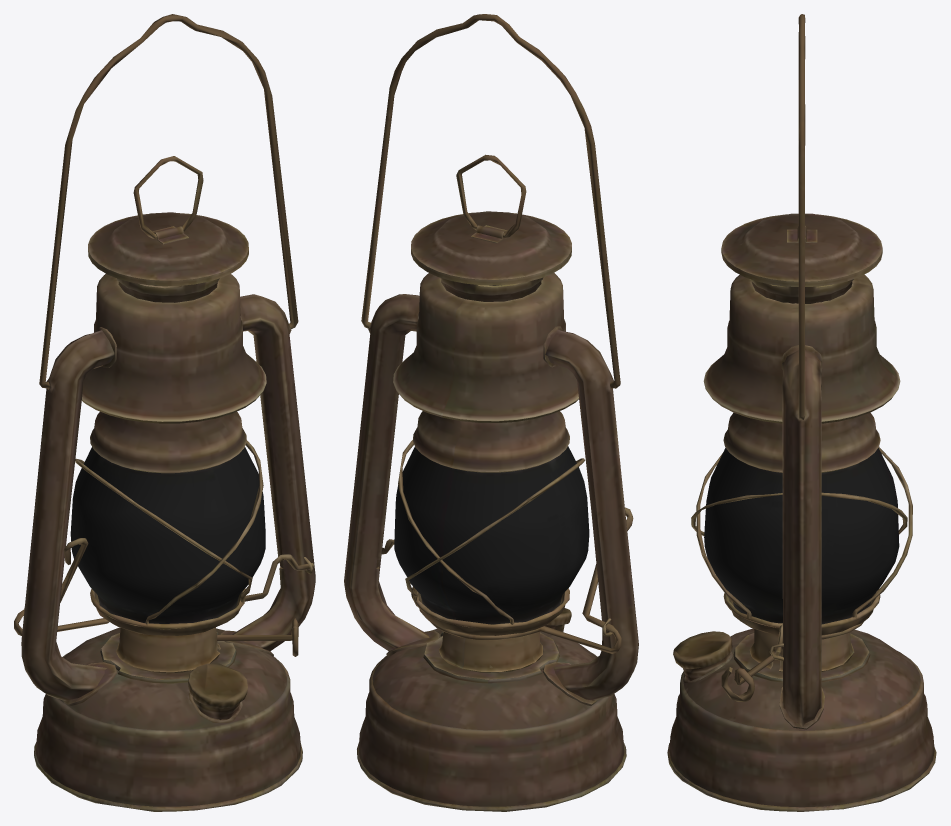
The model's file is Lantern_01.2a74f68c.glb.
3 views of the same model, side by side, from view 1: azimuth 30°, elevation 25°; view 2: azimuth 150°, elevation 25°; view 3: azimuth 270°, elevation 25° (orthographic).
Parts seen in each view (by area): view 1: Lantern_01, Lantern_01_glass; view 2: Lantern_01, Lantern_01_glass; view 3: Lantern_01, Lantern_01_glass.
Boxes of the visible parts, left/top/right/bottom form: Lantern_01: left=14, top=14, right=315, bottom=811; Lantern_01_glass: left=70, top=447, right=265, bottom=623; Lantern_01: left=344, top=14, right=638, bottom=811; Lantern_01_glass: left=394, top=446, right=589, bottom=624; Lantern_01: left=667, top=14, right=936, bottom=811; Lantern_01_glass: left=704, top=448, right=899, bottom=624.
Bounding box in the file's own units: 0.4151 × 1 × 0.3301.
Materials: 2 (2 with a texture image).
